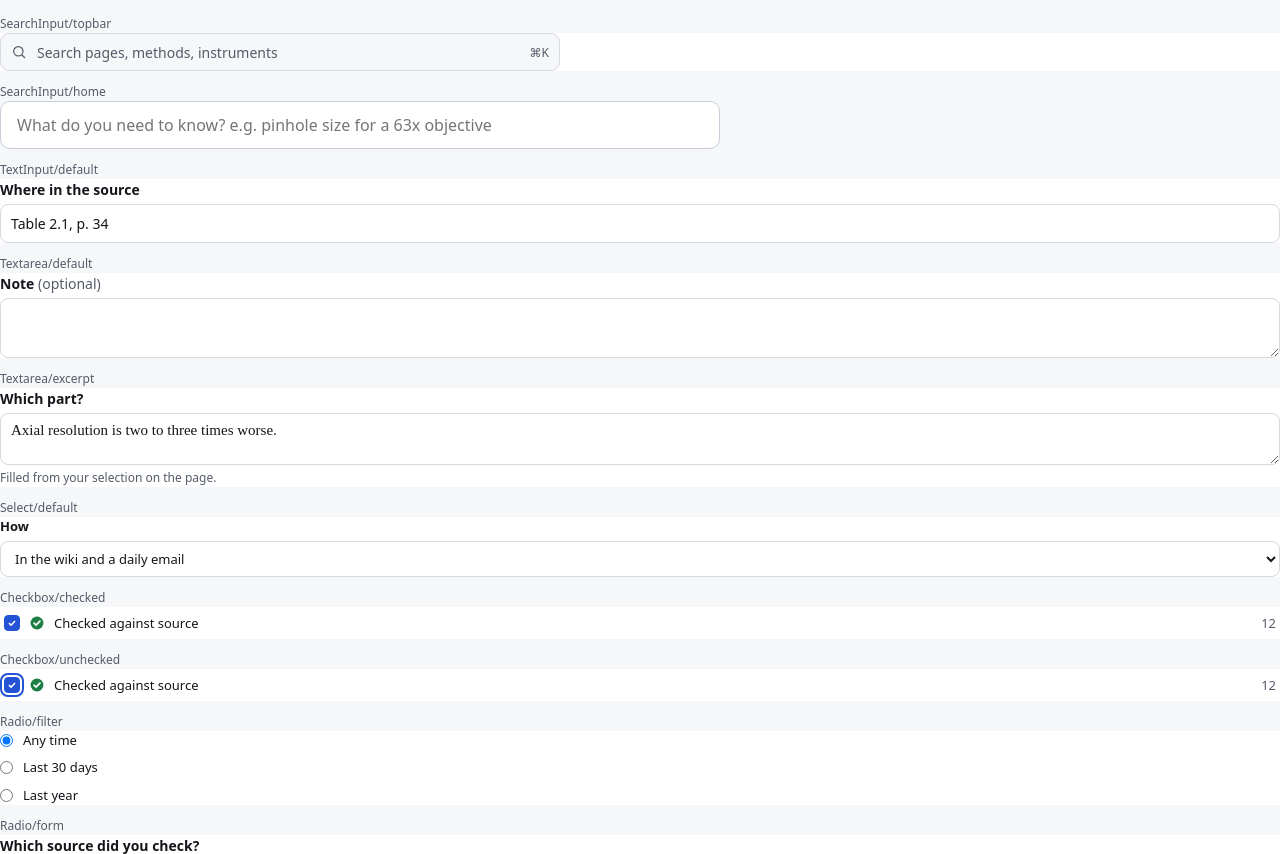
Test: toggles checked and unchecked checkboxes and switches with Space
Earlier steps of the test are not shown.
Type keys " "
(page scrolled)
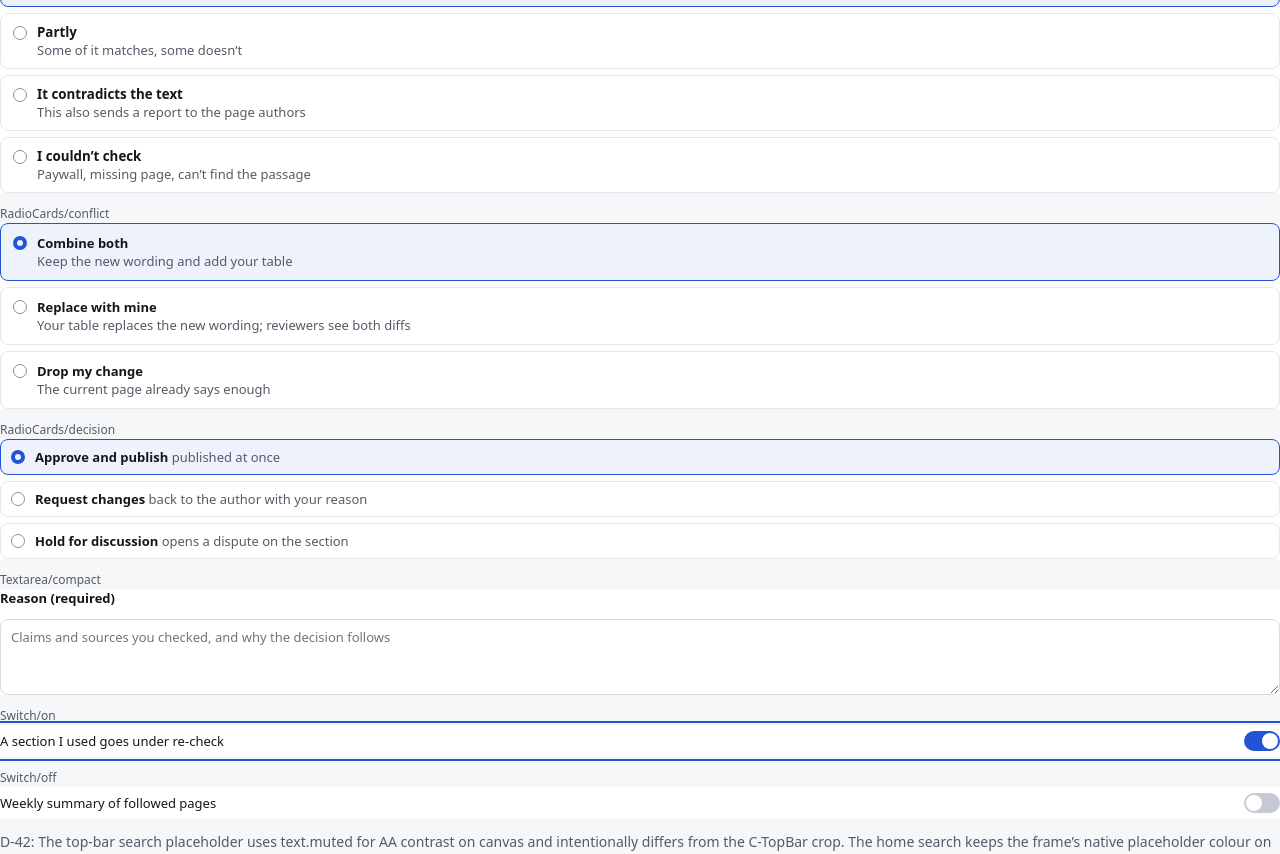
Type keys " "
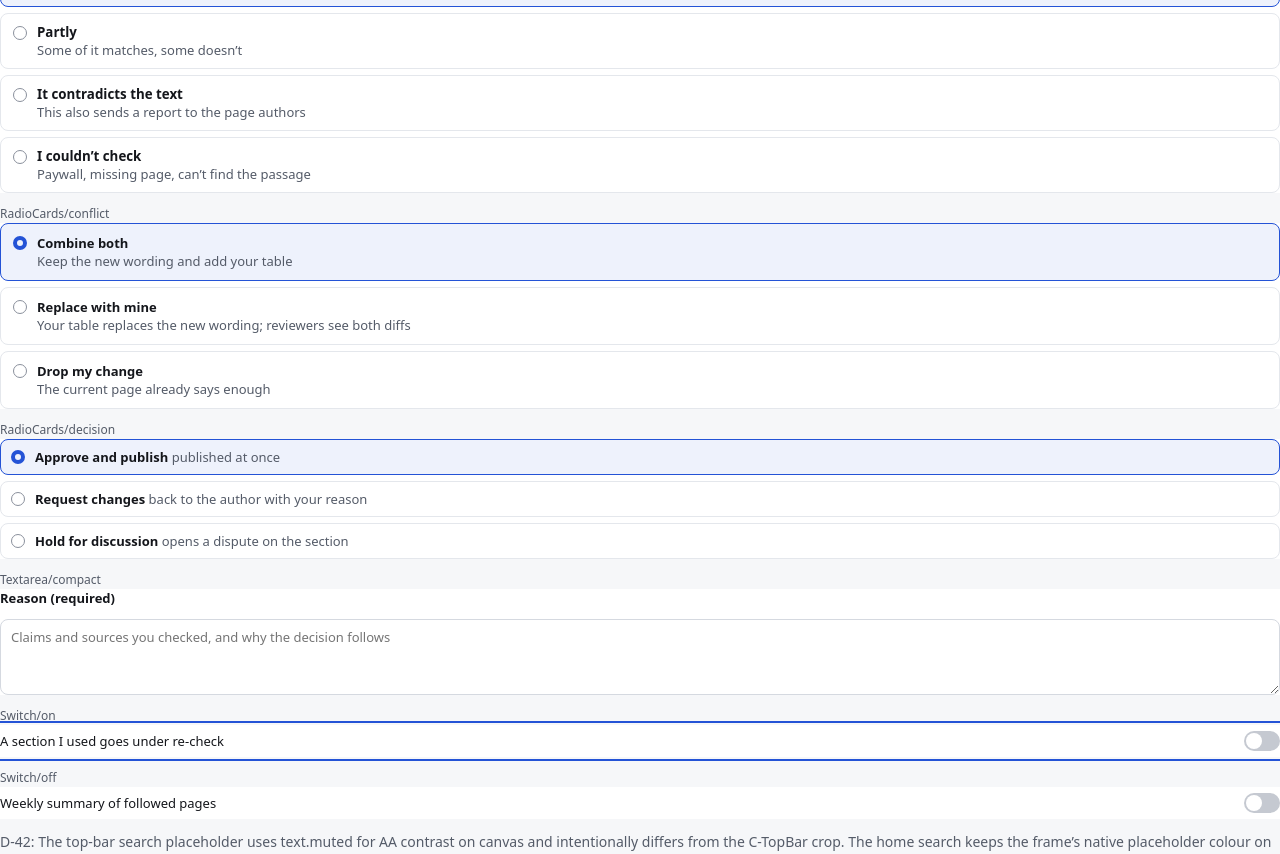
Type keys " "
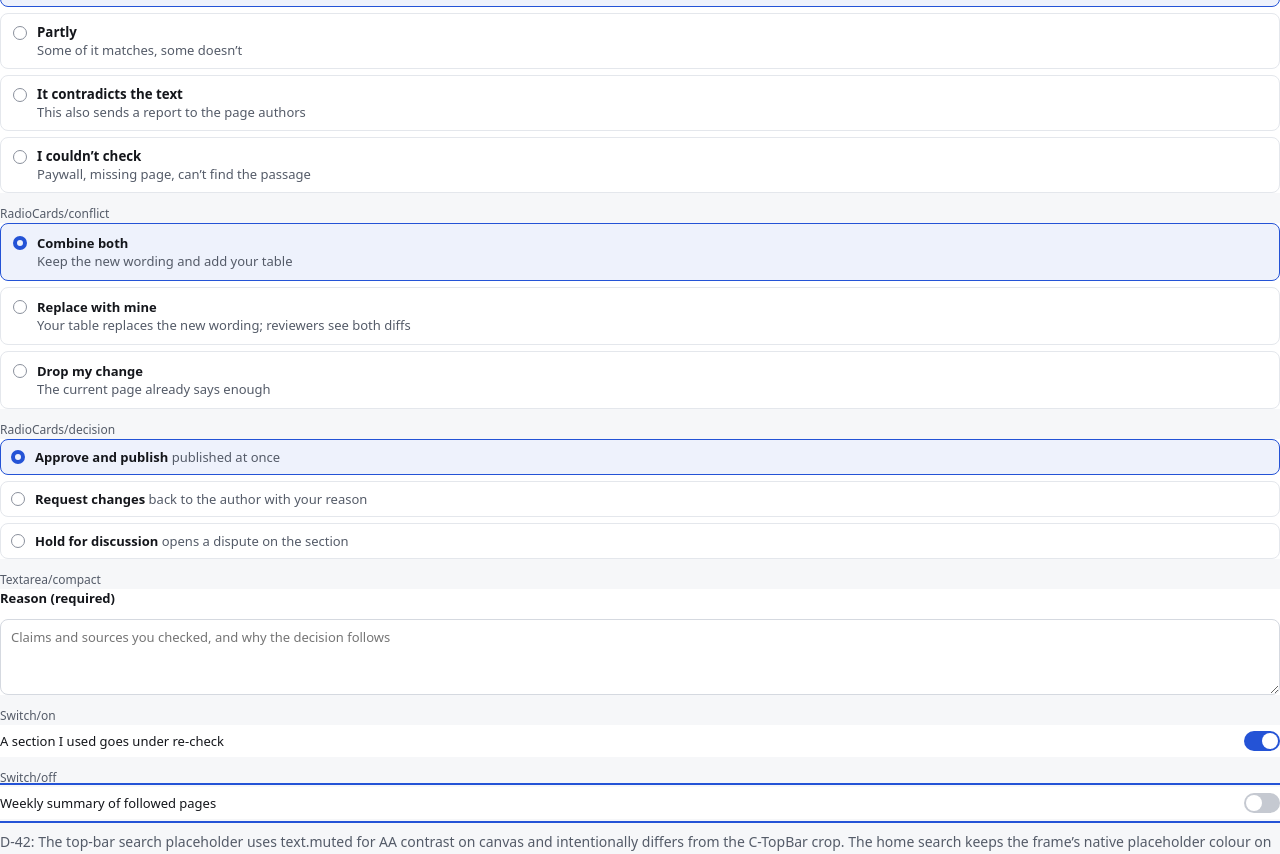
Type keys " "
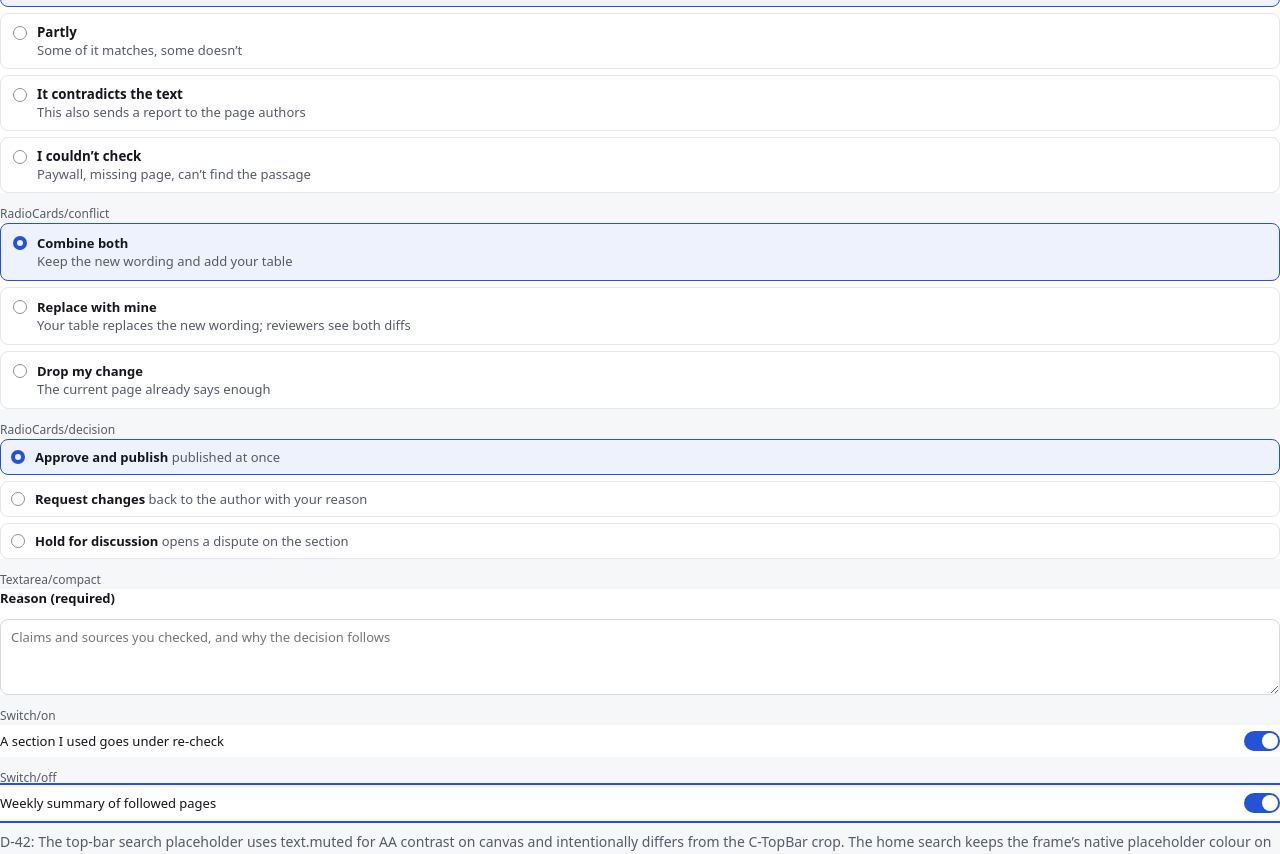
Type keys " "
(page scrolled)
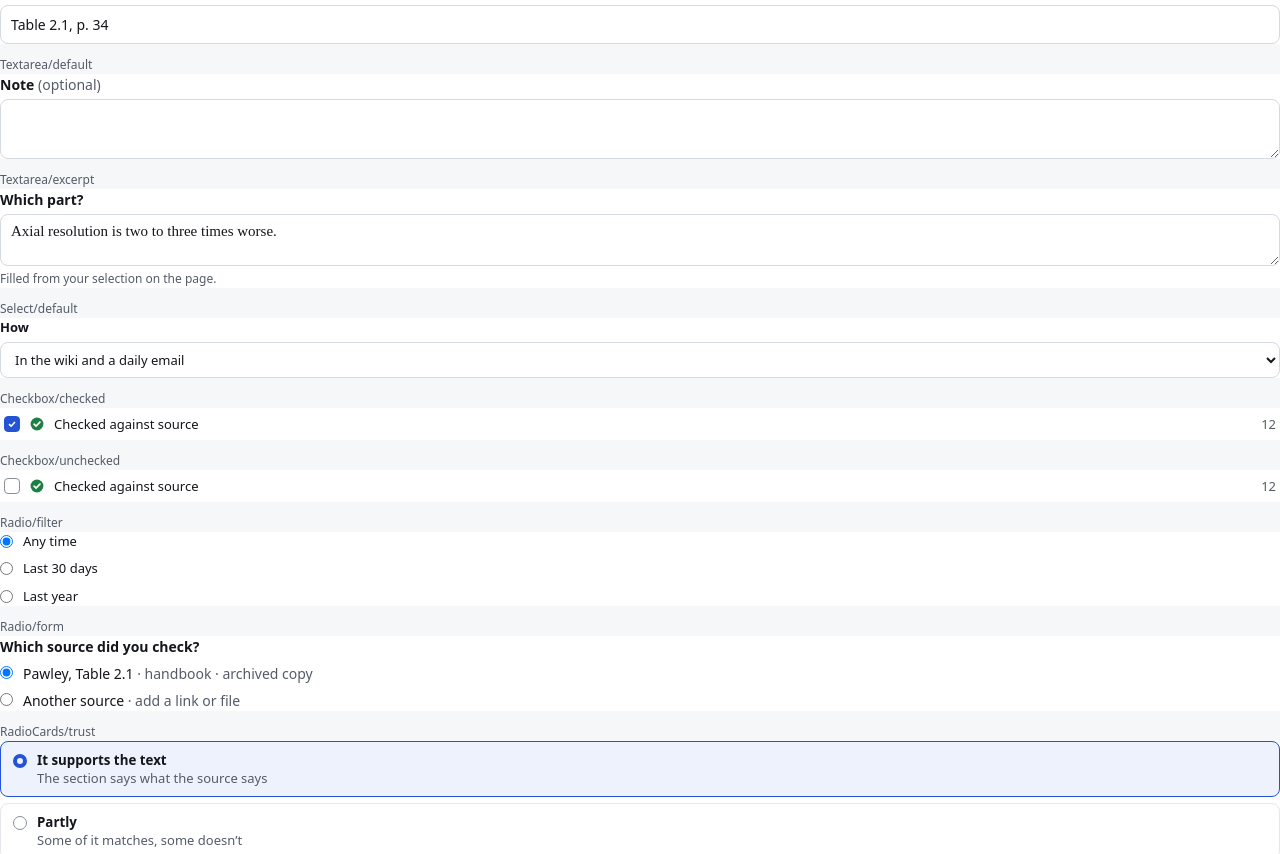
Click the text "Checked against source" below "Checkbox/checked".
click(126, 424)  # box [54, 414, 199, 432]
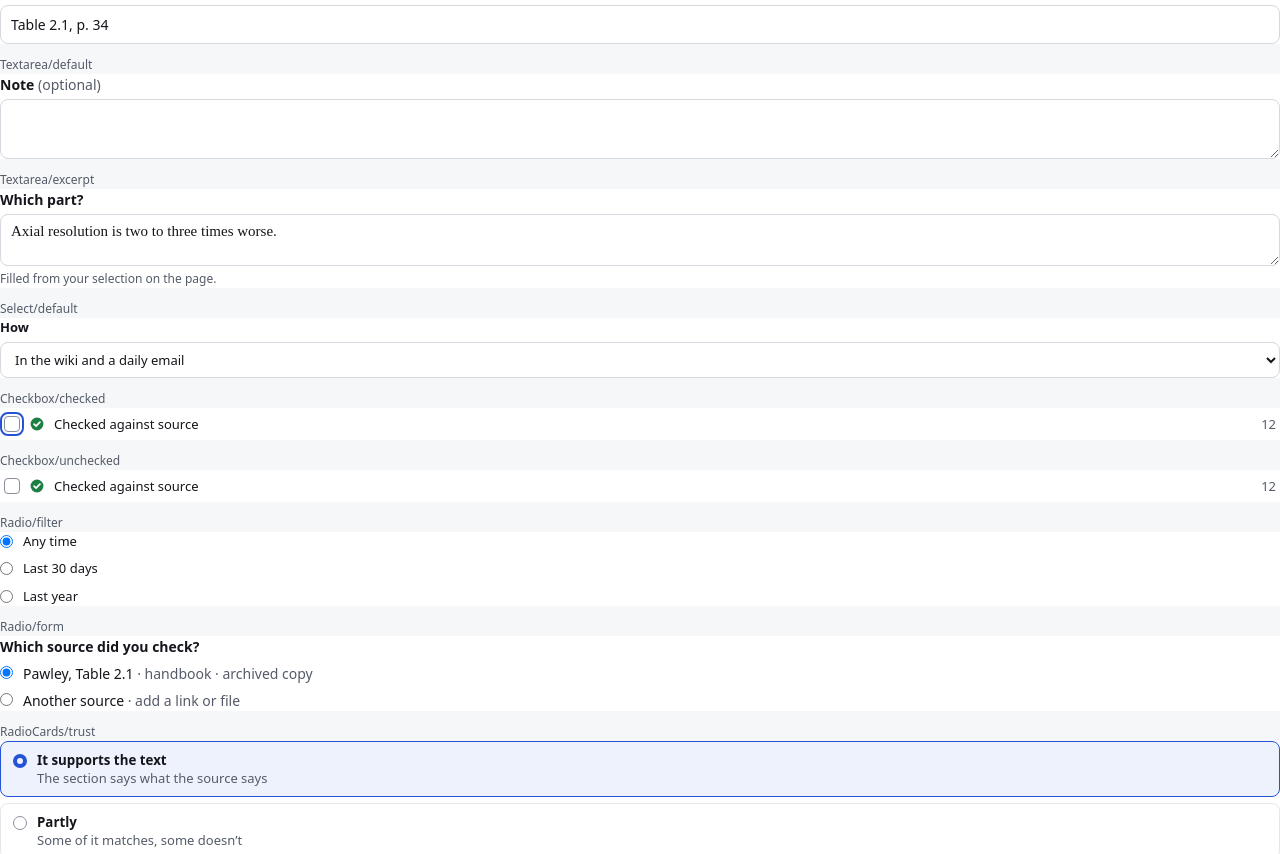
Now the checkbox labelled "Checked against source 12" below "Checkbox/checked" is not checked, box [5, 416, 19, 430]
